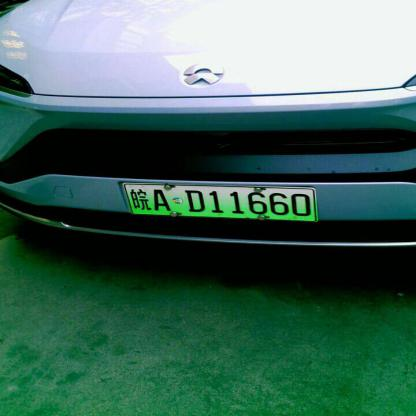lp: (122, 183, 317, 221)
